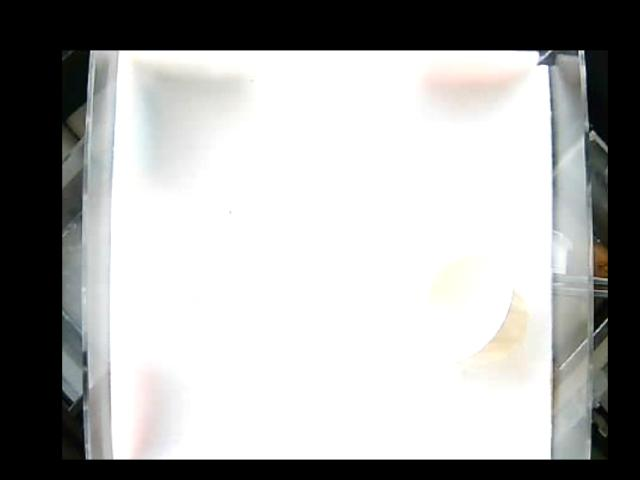Cup: (411, 243, 529, 367)
